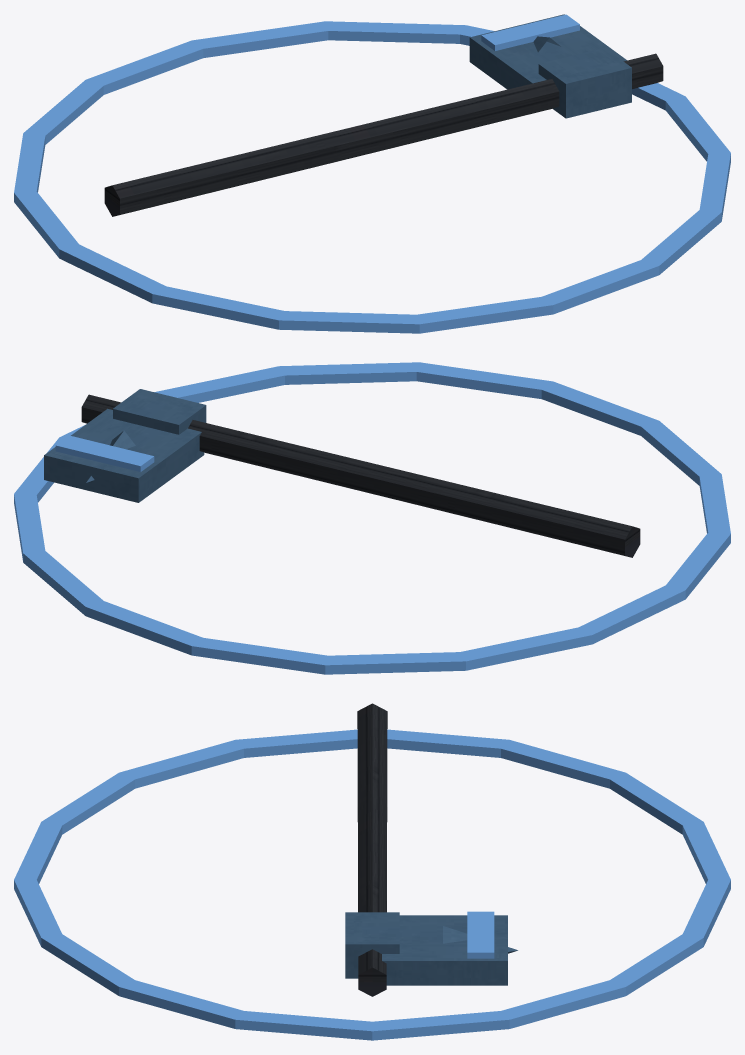
The model's file is loot_axe_g1.glb.
3 views of the same model, one above another, from view 1: azimuth 30°, elevation 25°; view 2: azimuth 150°, elevation 25°; view 3: azimuth 270°, elevation 25° (orthographic).
Visible parts, largest first — view 1: loot_axe_g1; view 2: loot_axe_g1; view 3: loot_axe_g1.
Boxes of the visible parts, x1=… form: loot_axe_g1: x1=14, y1=14, x2=730, y2=333; loot_axe_g1: x1=14, y1=362, x2=730, y2=674; loot_axe_g1: x1=14, y1=703, x2=730, y2=1040.
Bounding box in the file's own units: 1.32 × 0.135 × 1.32.
Materials: 3 (3 with a texture image).
